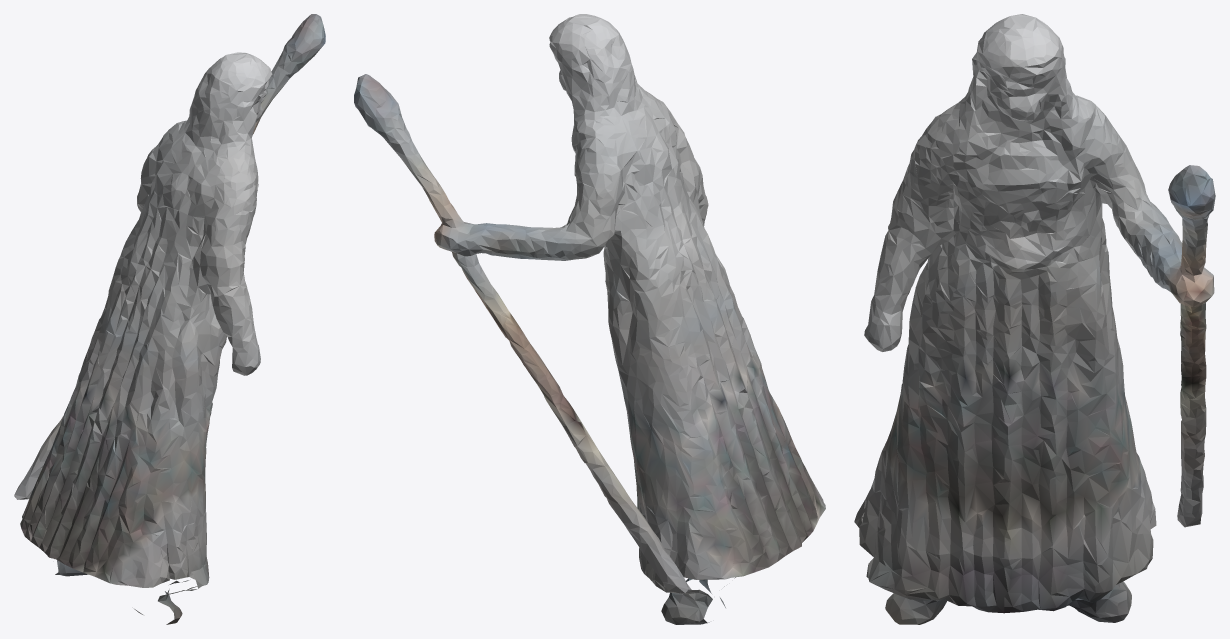
The model's file is queen.glb.
The picture shows the model from 3 angles, left to right: view 1: azimuth 30°, elevation 25°; view 2: azimuth 150°, elevation 25°; view 3: azimuth 270°, elevation 25°; orthographic projection. The views are drawn at different scales.
Visible parts, largest first — view 1: world; view 2: world; view 3: world.
Boxes of the visible parts, x1,y1,x2,y2 form: world: (14, 14, 325, 624); world: (354, 14, 825, 624); world: (854, 14, 1215, 624).
Bounding box in the file's own units: 0.714 × 1 × 0.4863.
